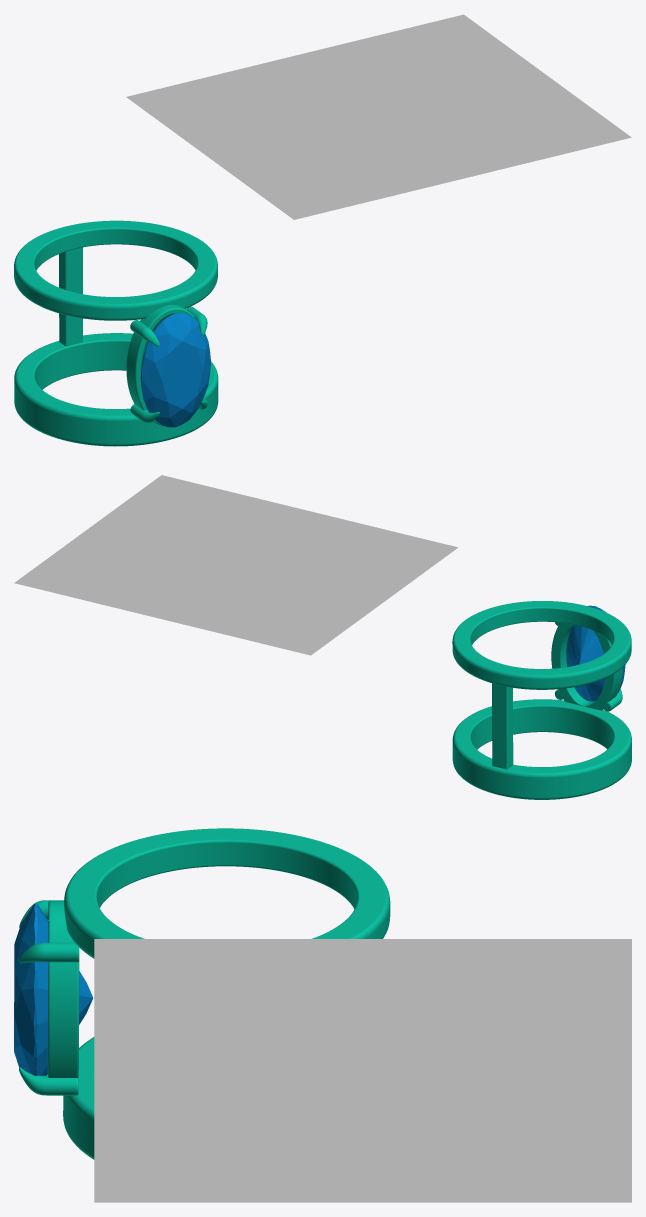
The picture shows the model from 3 angles, top to bottom: view 1: azimuth 30°, elevation 25°; view 2: azimuth 150°, elevation 25°; view 3: azimuth 270°, elevation 25°; orthographic projection. The views are drawn at different scales.
Visible parts, largest first — view 1: VR1062(base).3dm, Diamond_Oval, Bezel; view 2: VR1062(base).3dm, Bezel, Diamond_Oval; view 3: VR1062(base).3dm, Diamond_Oval, Bezel, Head Prong (×2).
Boxes of the visible parts, x1,y1,x2,y2 form: VR1062(base).3dm: (14, 14, 631, 446); Diamond_Oval: (140, 313, 210, 427); Bezel: (126, 305, 194, 425); VR1062(base).3dm: (14, 475, 631, 799); Bezel: (551, 623, 622, 710); Diamond_Oval: (566, 605, 625, 701); VR1062(base).3dm: (19, 828, 631, 1202); Diamond_Oval: (14, 904, 93, 1075); Bezel: (47, 900, 79, 1077); Head Prong (×2): (43, 942, 79, 1095).
Bounding box in the file's own units: 7.44 × 2.3 × 4.43.
